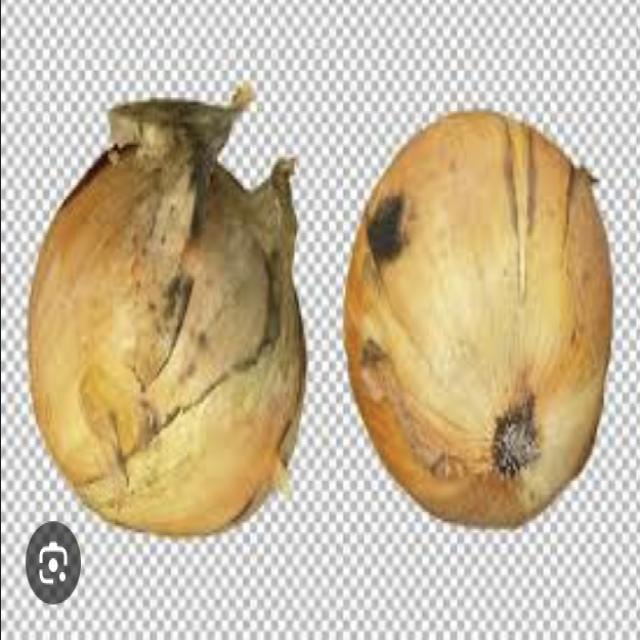mechanical_damage: (53, 84, 606, 542)
